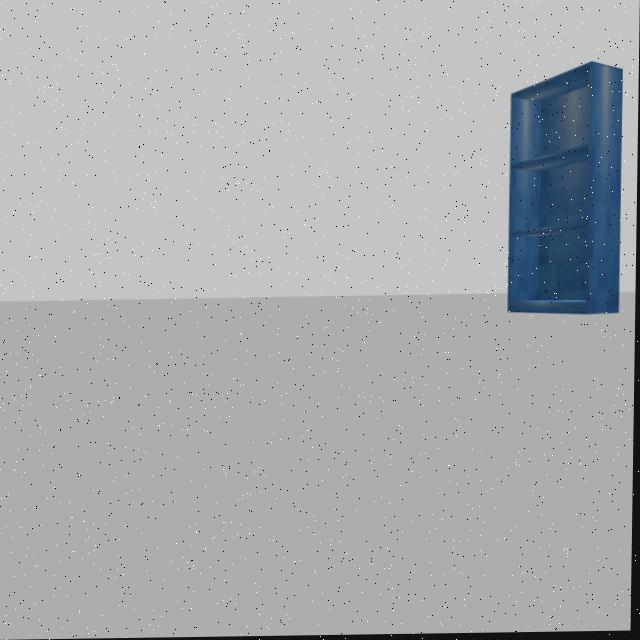shelf: (501, 55, 631, 330)
